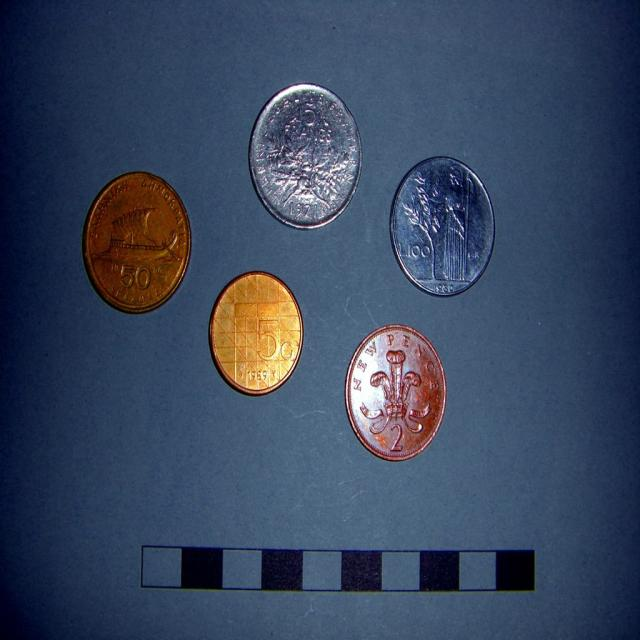Coin: (248, 79, 360, 227), (82, 165, 191, 314), (391, 153, 496, 294), (344, 322, 448, 460), (210, 269, 305, 390)
